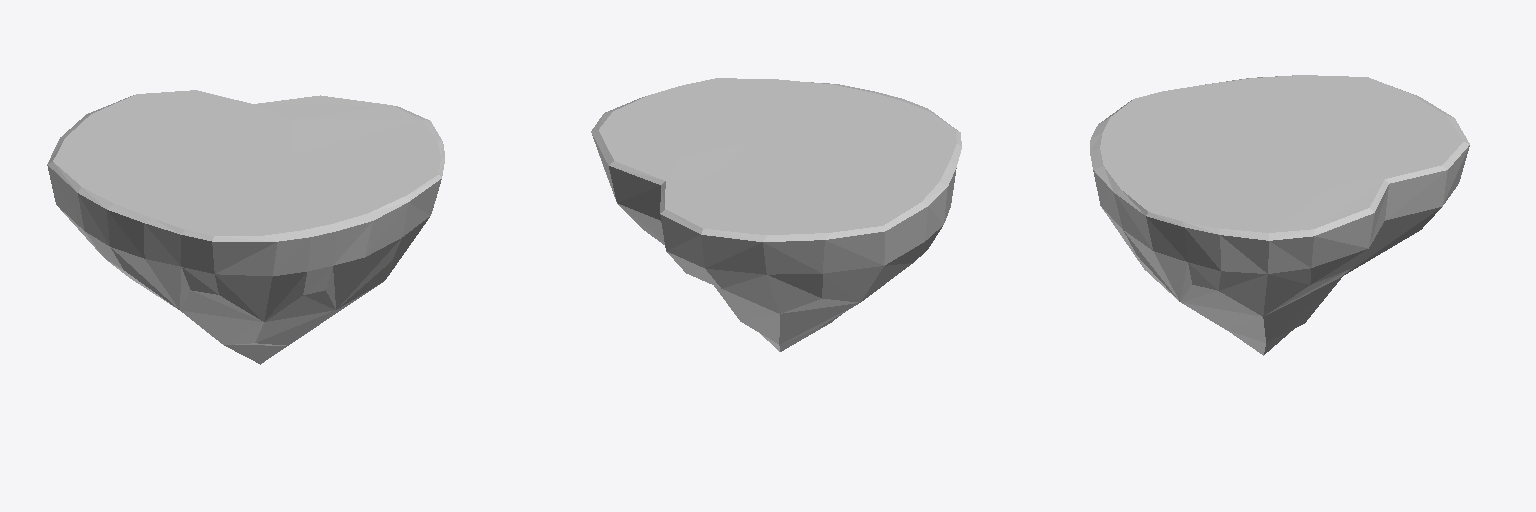
The picture shows the model from 3 angles: view 1: azimuth 30°, elevation 25°; view 2: azimuth 150°, elevation 25°; view 3: azimuth 270°, elevation 25°; orthographic projection.
Parts seen in each view (by area): view 1: BaseUV; view 2: BaseUV; view 3: BaseUV.
Part boxes in pixels (bbox=[...]): BaseUV: bbox=[47, 90, 444, 364]; BaseUV: bbox=[591, 78, 961, 351]; BaseUV: bbox=[1090, 75, 1469, 355].
Size of the model in its own units: 13850 by 7947 by 13474.